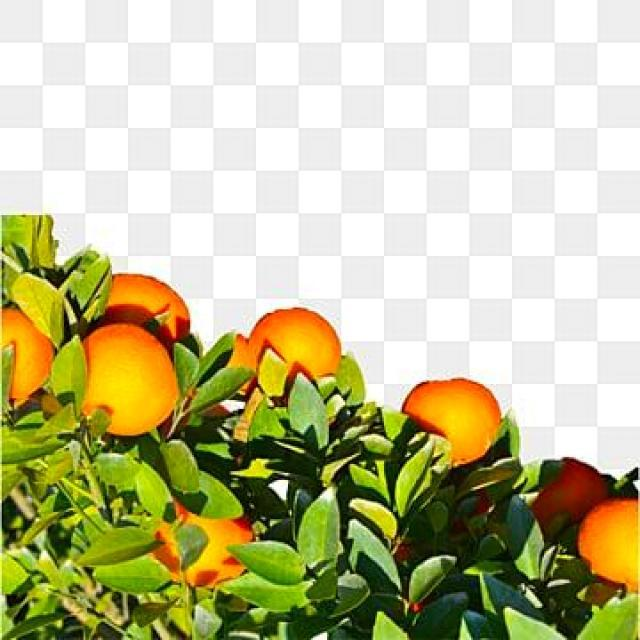Jeruk Sudah Matang: (56, 322, 190, 434), (393, 368, 519, 478), (244, 295, 352, 407), (560, 476, 640, 612)
